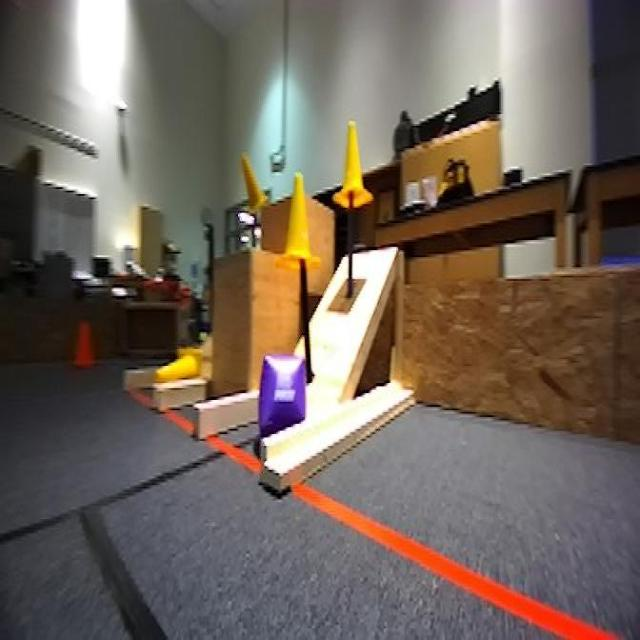frc_cone: (278, 172, 321, 276), (335, 119, 375, 213), (154, 338, 206, 384), (239, 151, 269, 218)
frc_cube: (254, 346, 310, 442)
